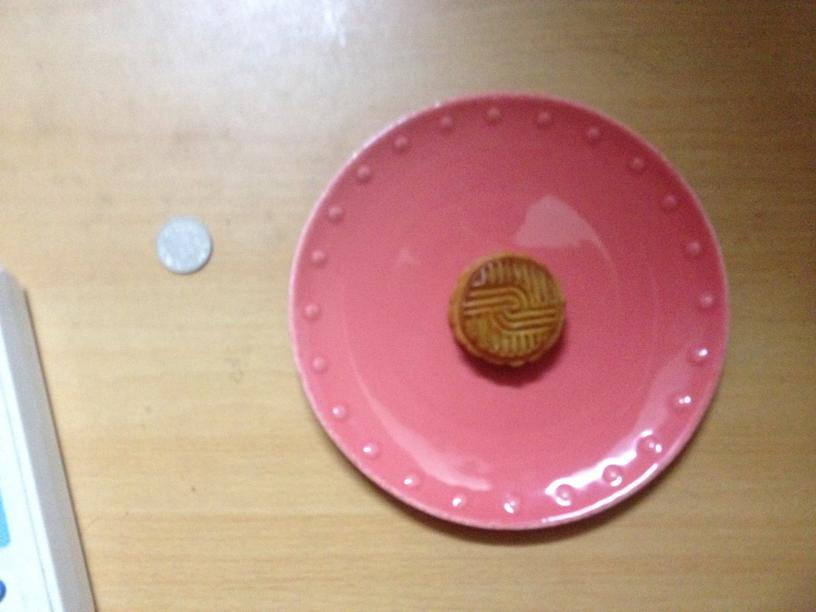coin: (155, 216, 212, 274)
mooncake: (449, 250, 568, 368)
